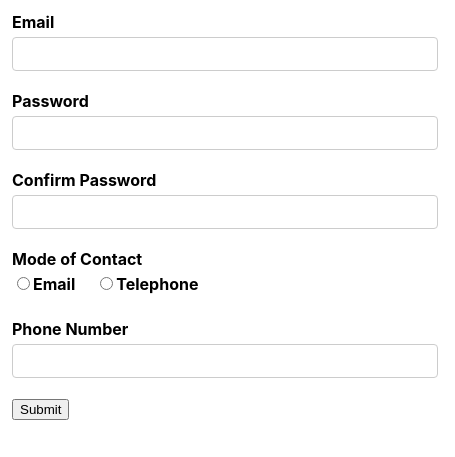
test to submit registration form with required validation for telephone mode of contact to be checked
Type "mock@someemail.com" into the field named "email" at (225, 54), box [12,37,438,71]
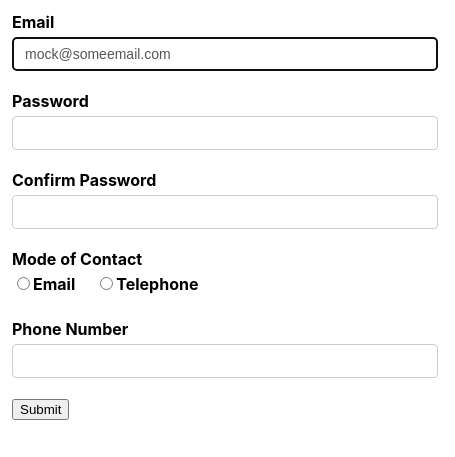
Type "12345678" into the password field named "password" at (225, 133), box [12,116,438,150]
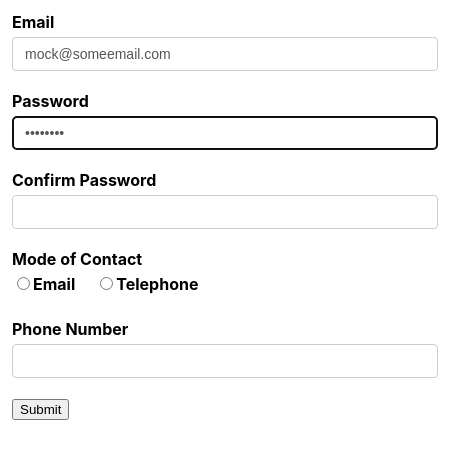
Type "12345678" into the password field named "confirmPassword" at (225, 212), box [12,195,438,229]
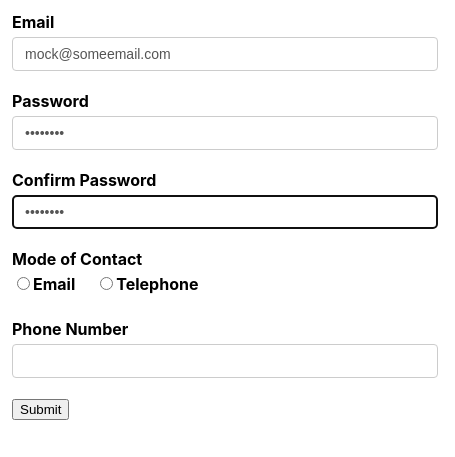
Click the radio button with id "telephonemoc" at (107, 284), box [100,277,113,290]
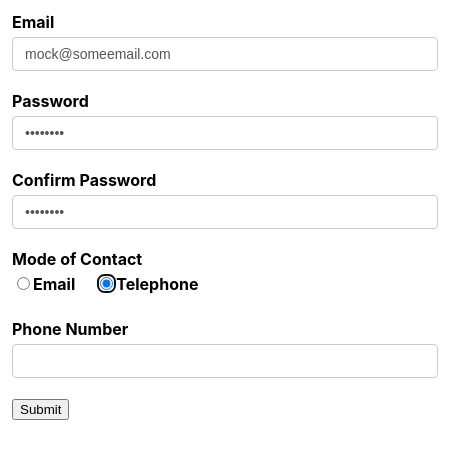
Click the submit button at (41, 410), box [12,399,70,420]
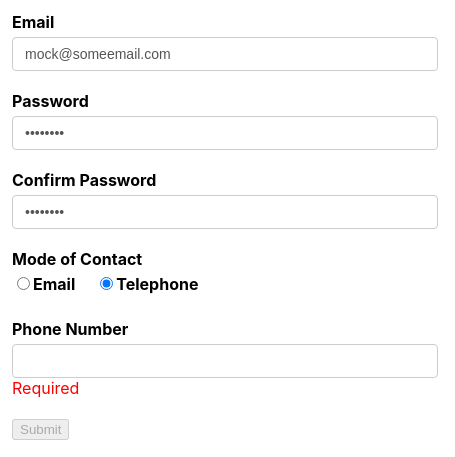
Result: the radio button with id "telephonemoc" is checked at [100,277,113,290]
Result: the submit button is disabled at [12,419,70,440]
Result: the text with test id "phoneNumberError" reads "Required" at [12,378,79,398]
